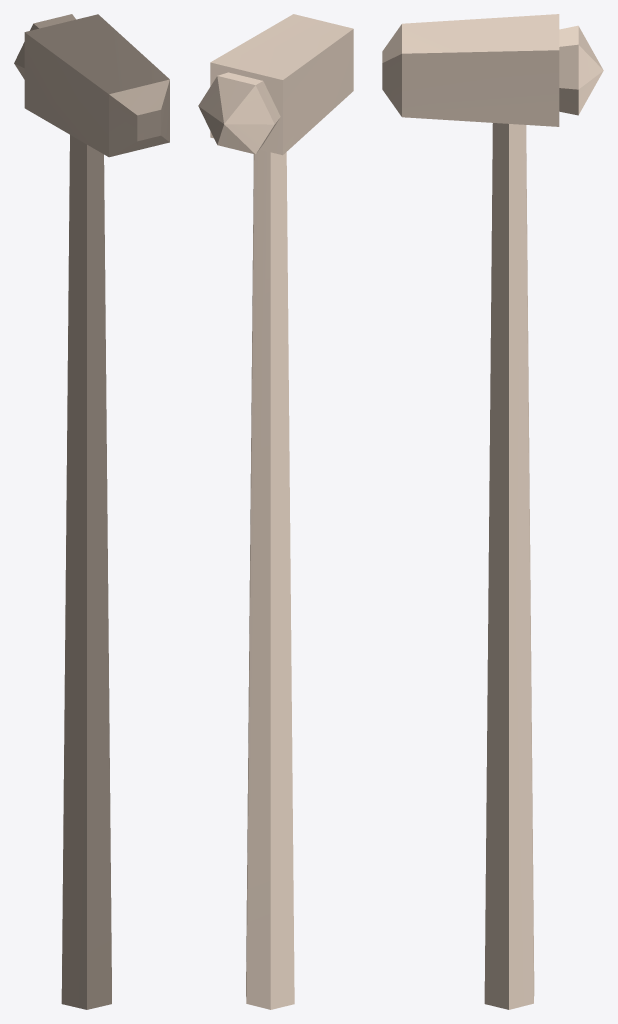
Rendered from wind_turbine.FBX.
3 renders of one model, left to right at view 1: azimuth 30°, elevation 25°; view 2: azimuth 150°, elevation 25°; view 3: azimuth 270°, elevation 25°, orthographic. The views are drawn at different scales.
Visible parts, largest first — view 1: wind_turbine; view 2: wind_turbine; view 3: wind_turbine.
Boxes of the visible parts, box(x1,y1,x2,y2) form: wind_turbine: box(14, 14, 169, 1009); wind_turbine: box(198, 14, 353, 1009); wind_turbine: box(382, 14, 603, 1009).
Size of the model in its own units: 14.8 by 175 by 36.31.
